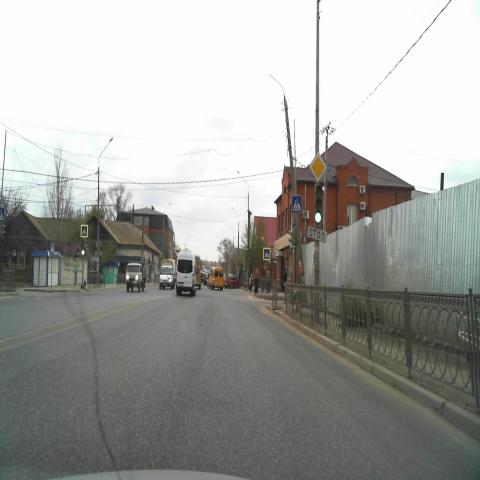6_16: (308, 227, 328, 242)
